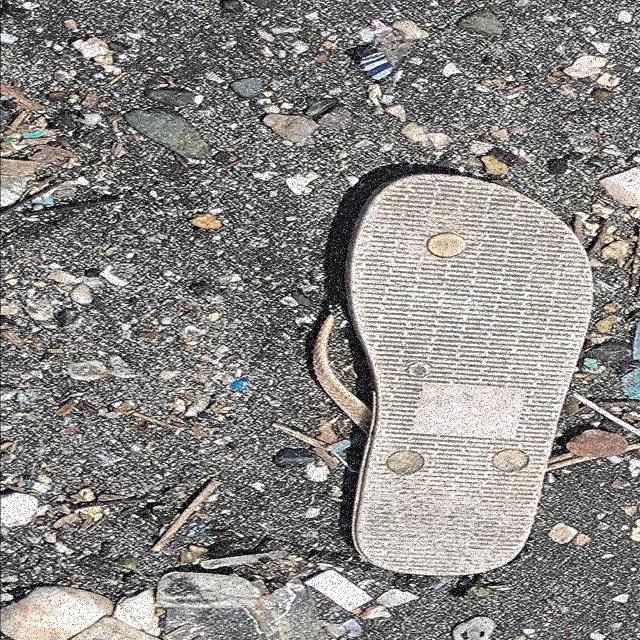rubber_waste: (311, 174, 598, 578)
